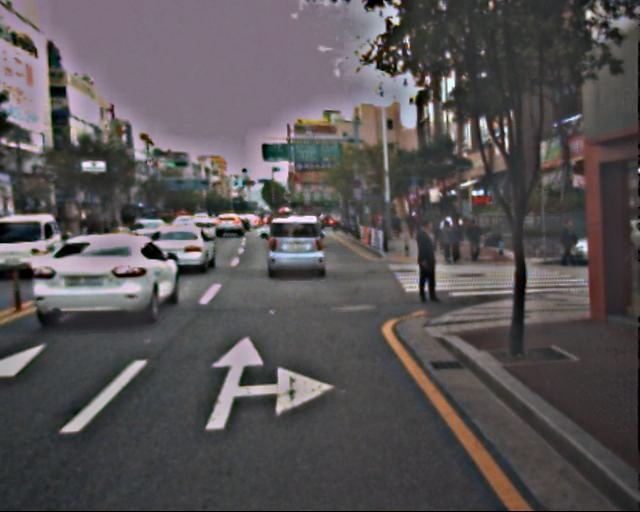person: (408, 216, 444, 304), (439, 209, 462, 261), (556, 217, 578, 271), (464, 219, 482, 263)
